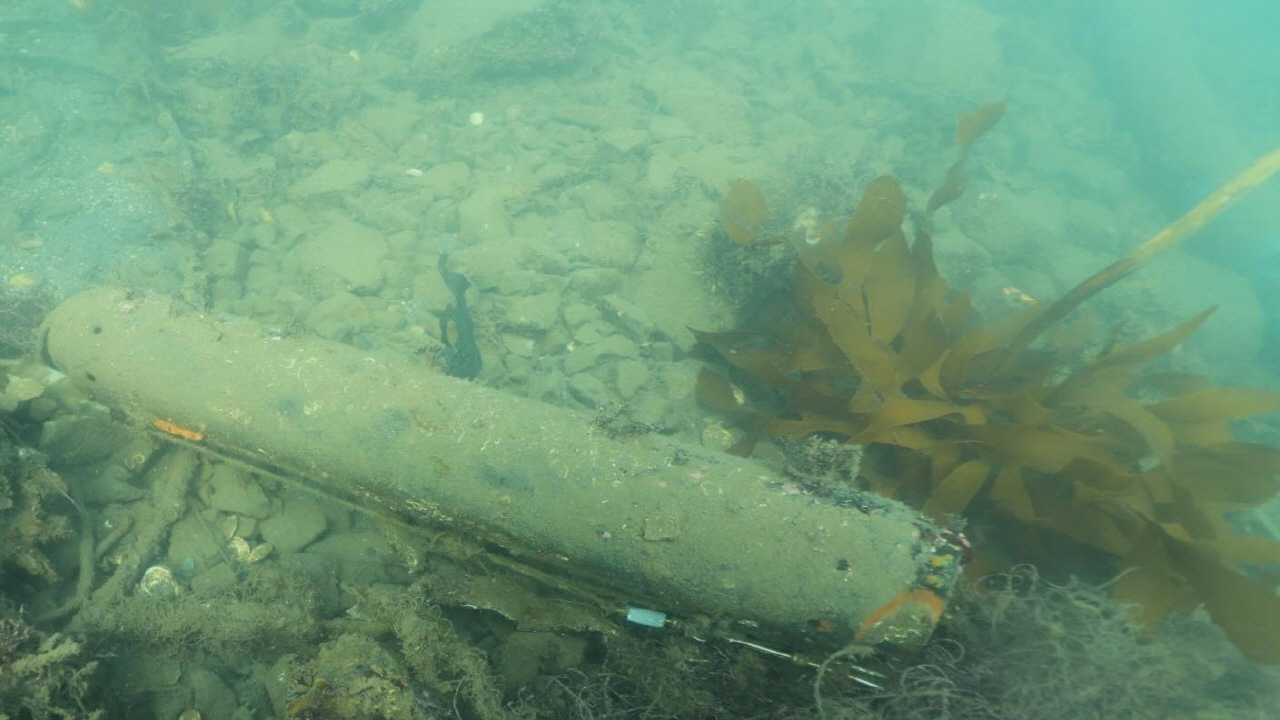eel fish trap: (36, 283, 969, 658)
